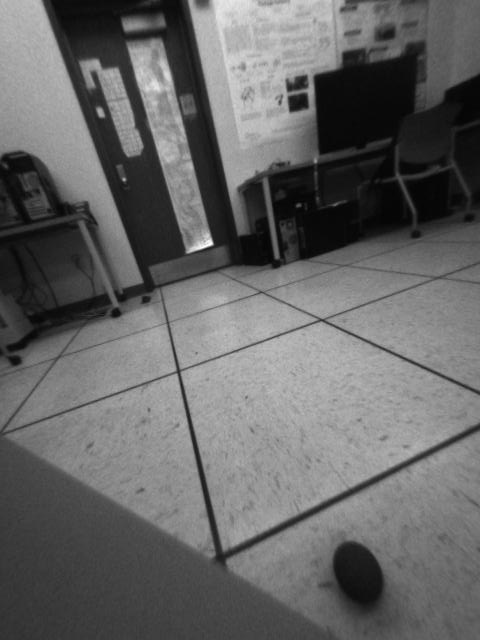dogtoy: (322, 532, 396, 614)
